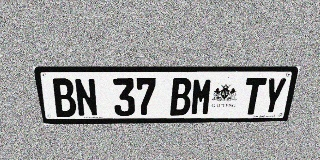3: (113, 78, 135, 116)
7: (135, 78, 156, 116)
B: (50, 78, 77, 117), (170, 78, 192, 116)
M: (190, 78, 213, 115)
N: (73, 78, 99, 117)
T: (241, 78, 267, 115)
Y: (261, 78, 287, 114)
